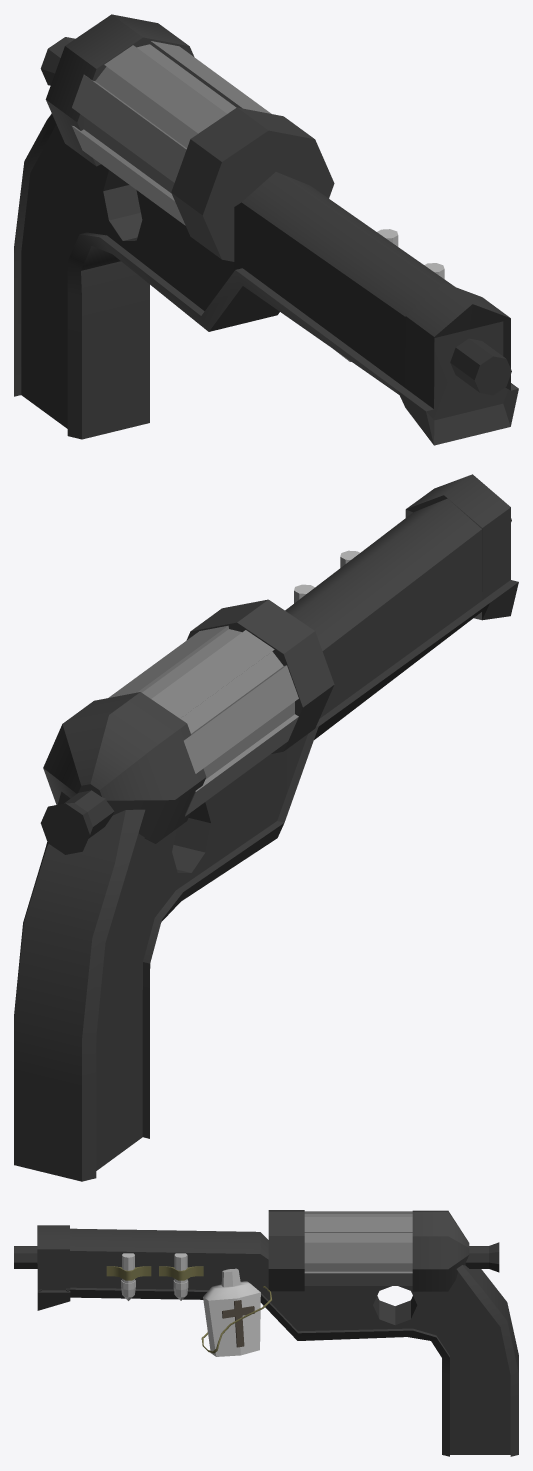
The model's file is holyGun.fbx.
The picture shows the model from 3 angles, top to bottom: view 1: azimuth 30°, elevation 25°; view 2: azimuth 150°, elevation 25°; view 3: azimuth 270°, elevation 25°; orthographic projection. The views are drawn at different scales.
Parts seen in each view (by area): view 1: polySurface3, pCylinder1, pCylinder2, pCylinder4, pCylinder3; view 2: polySurface3, pCylinder1, pCylinder4, pCylinder2, pCylinder3; view 3: polySurface3, pCylinder1, pCylinder4, pCylinder12, pCylinder2, pCylinder3, polySurface4, pCylinder5, pCube2, pCylinder13, pCube1.
Part boxes in pixels (left/top/right/bottom): polySurface3: left=14, top=113, right=518, bottom=445; pCylinder1: left=72, top=41, right=271, bottom=225; pCylinder2: left=171, top=107, right=334, bottom=261; pCylinder4: left=45, top=14, right=194, bottom=166; pCylinder3: left=40, top=37, right=511, bottom=395; polySurface3: left=14, top=474, right=518, bottom=1181; pCylinder1: left=108, top=625, right=298, bottom=816; pCylinder4: left=43, top=692, right=206, bottom=843; pCylinder2: left=186, top=599, right=334, bottom=753; pCylinder3: left=40, top=518, right=511, bottom=854; polySurface3: left=37, top=1225, right=518, bottom=1456; pCylinder1: left=304, top=1211, right=412, bottom=1285; pCylinder4: left=412, top=1210, right=469, bottom=1291; pCylinder12: left=203, top=1268, right=260, bottom=1356; pCylinder2: left=268, top=1210, right=304, bottom=1291; pCylinder3: left=14, top=1242, right=499, bottom=1272; polySurface4: left=222, top=1300, right=254, bottom=1347; pCylinder5: left=173, top=1253, right=188, bottom=1300; pCube2: left=106, top=1266, right=151, bottom=1280; pCylinder13: left=121, top=1253, right=135, bottom=1300; pCube1: left=159, top=1266, right=203, bottom=1280.
Size of the model in its own units: 2.58 by 5.79 by 11.34.
